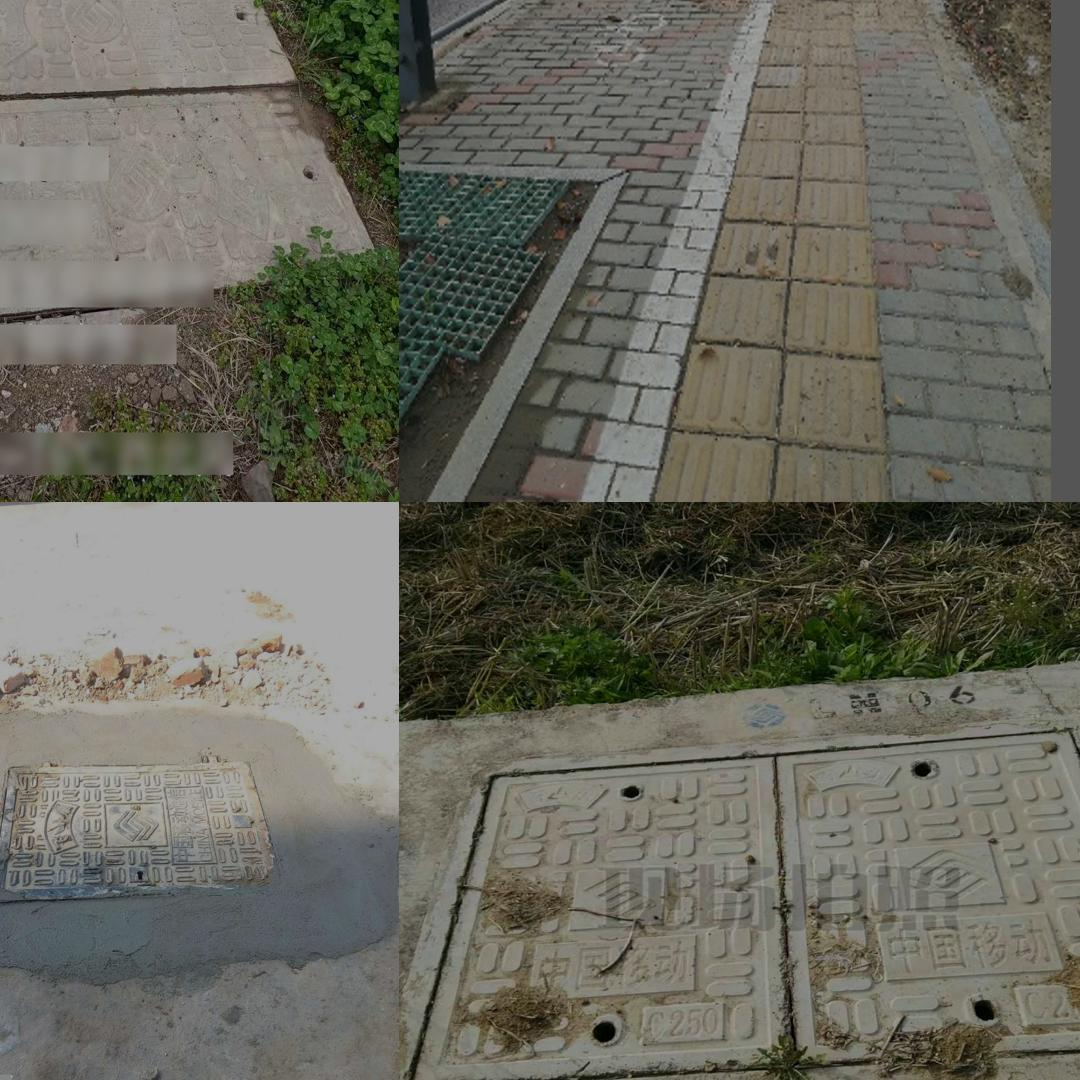good: (401, 710, 1080, 1080), (0, 0, 378, 376), (0, 756, 281, 902)
